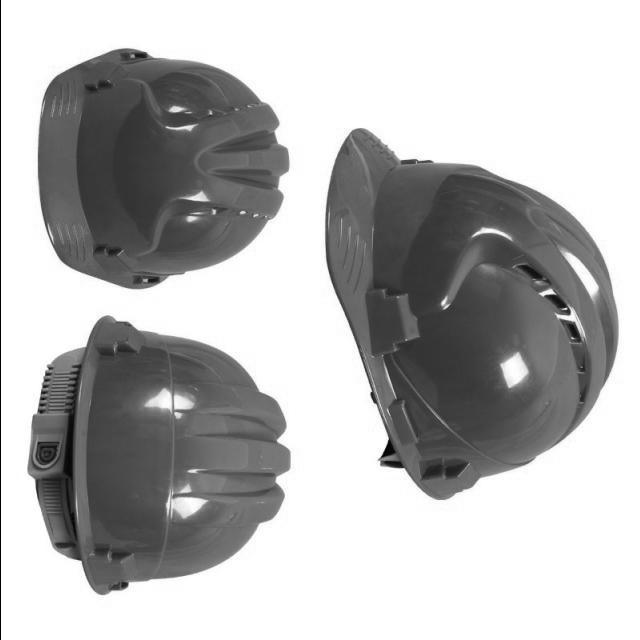safety_helmet: (345, 190, 618, 502), (26, 315, 289, 597), (34, 46, 245, 290)
